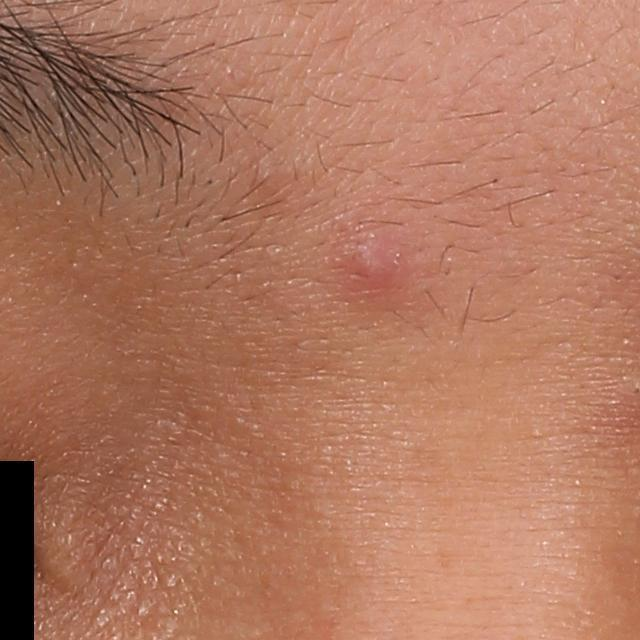papule: (331, 218, 413, 292)
